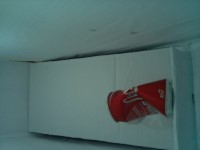kaleng: (107, 80, 174, 123)
